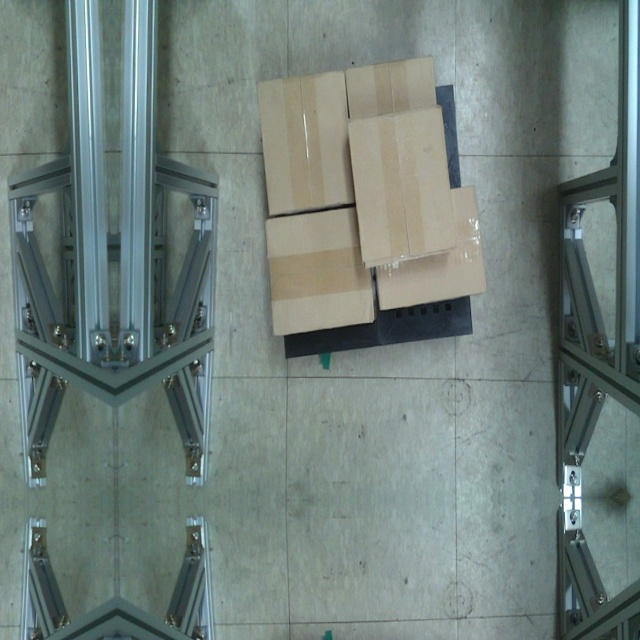box: (346, 105, 459, 270), (255, 71, 356, 219), (263, 208, 377, 338)
